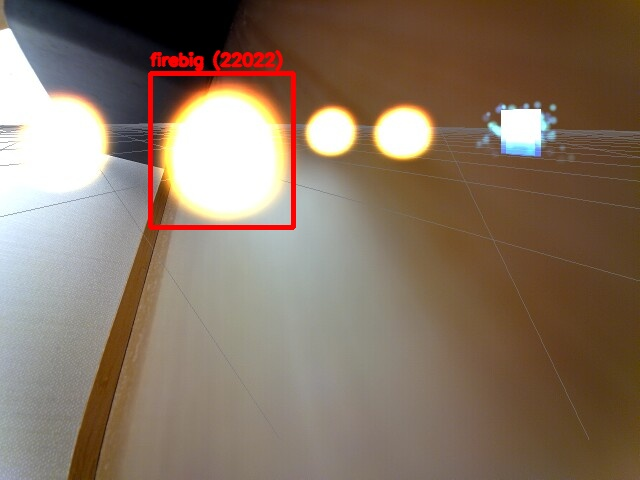firebig: (150, 73, 293, 227)
